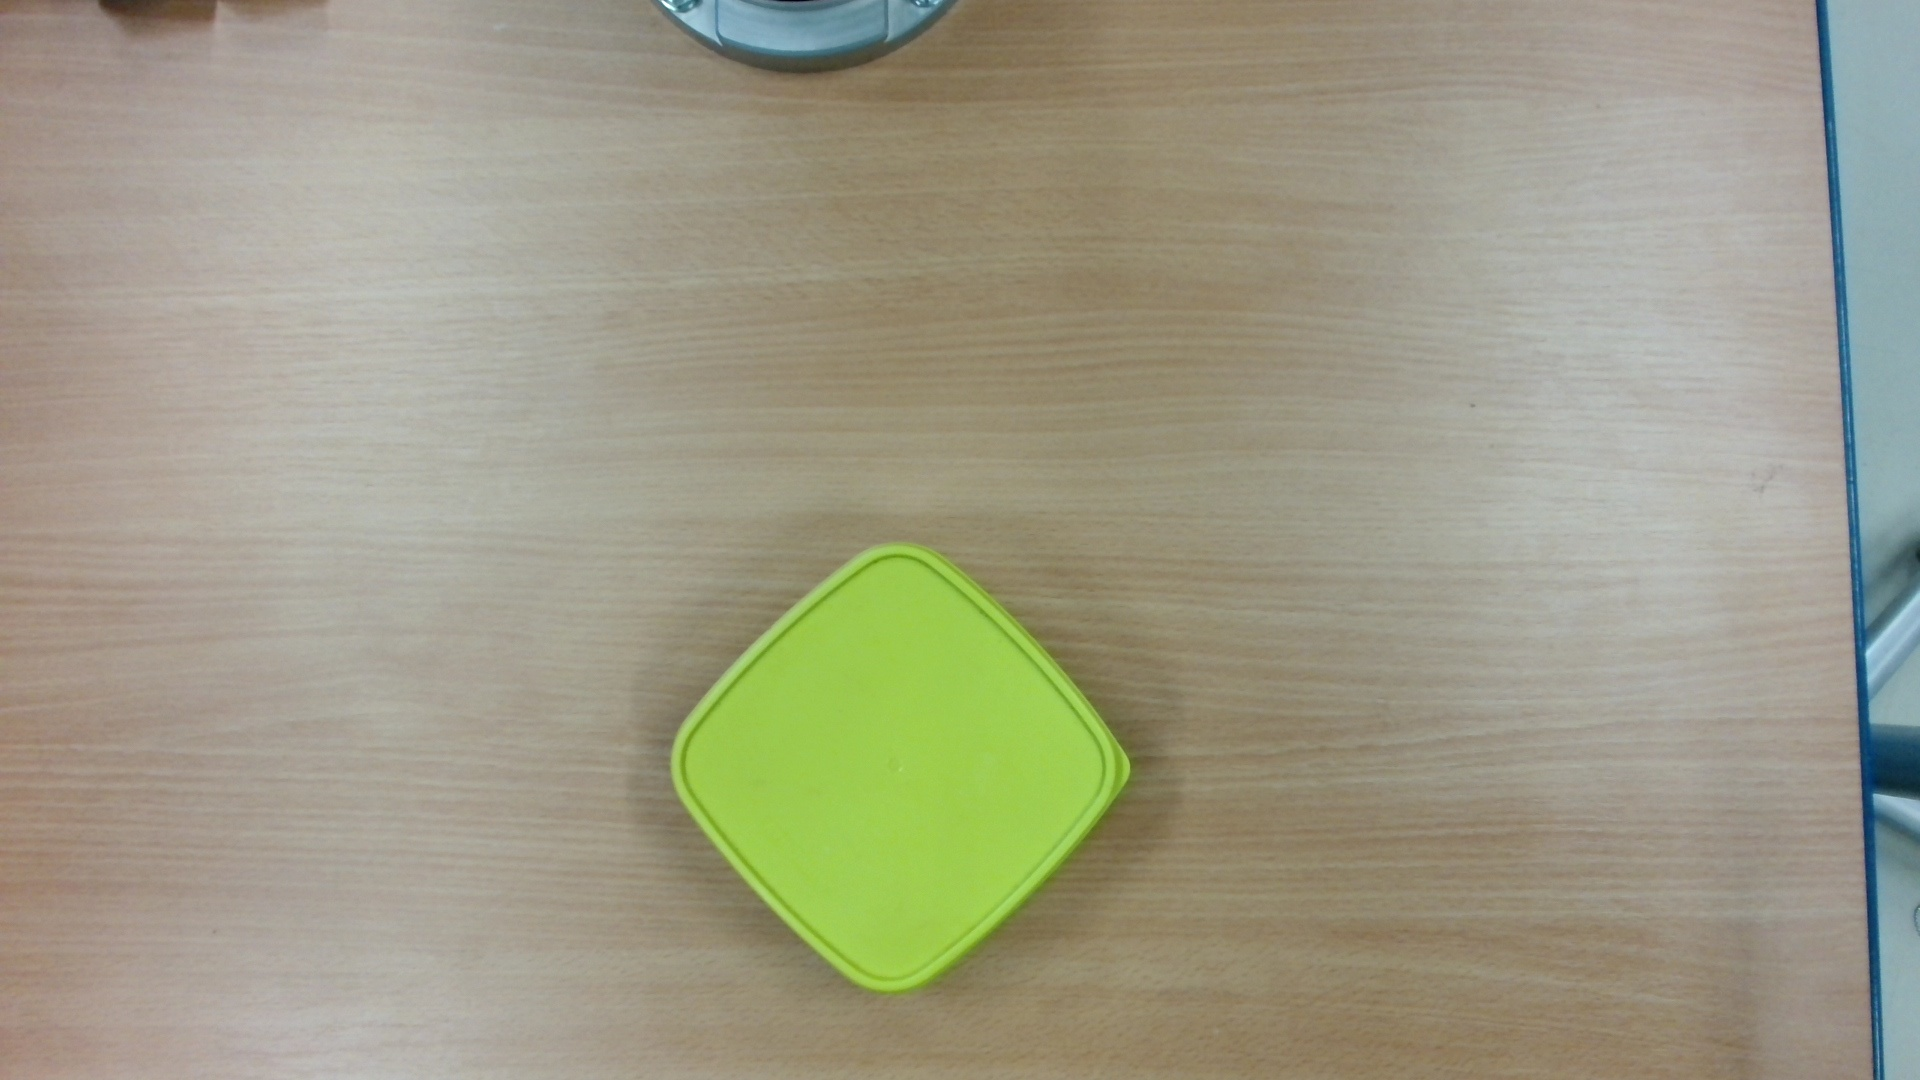Box: (665, 535, 1143, 1005)
